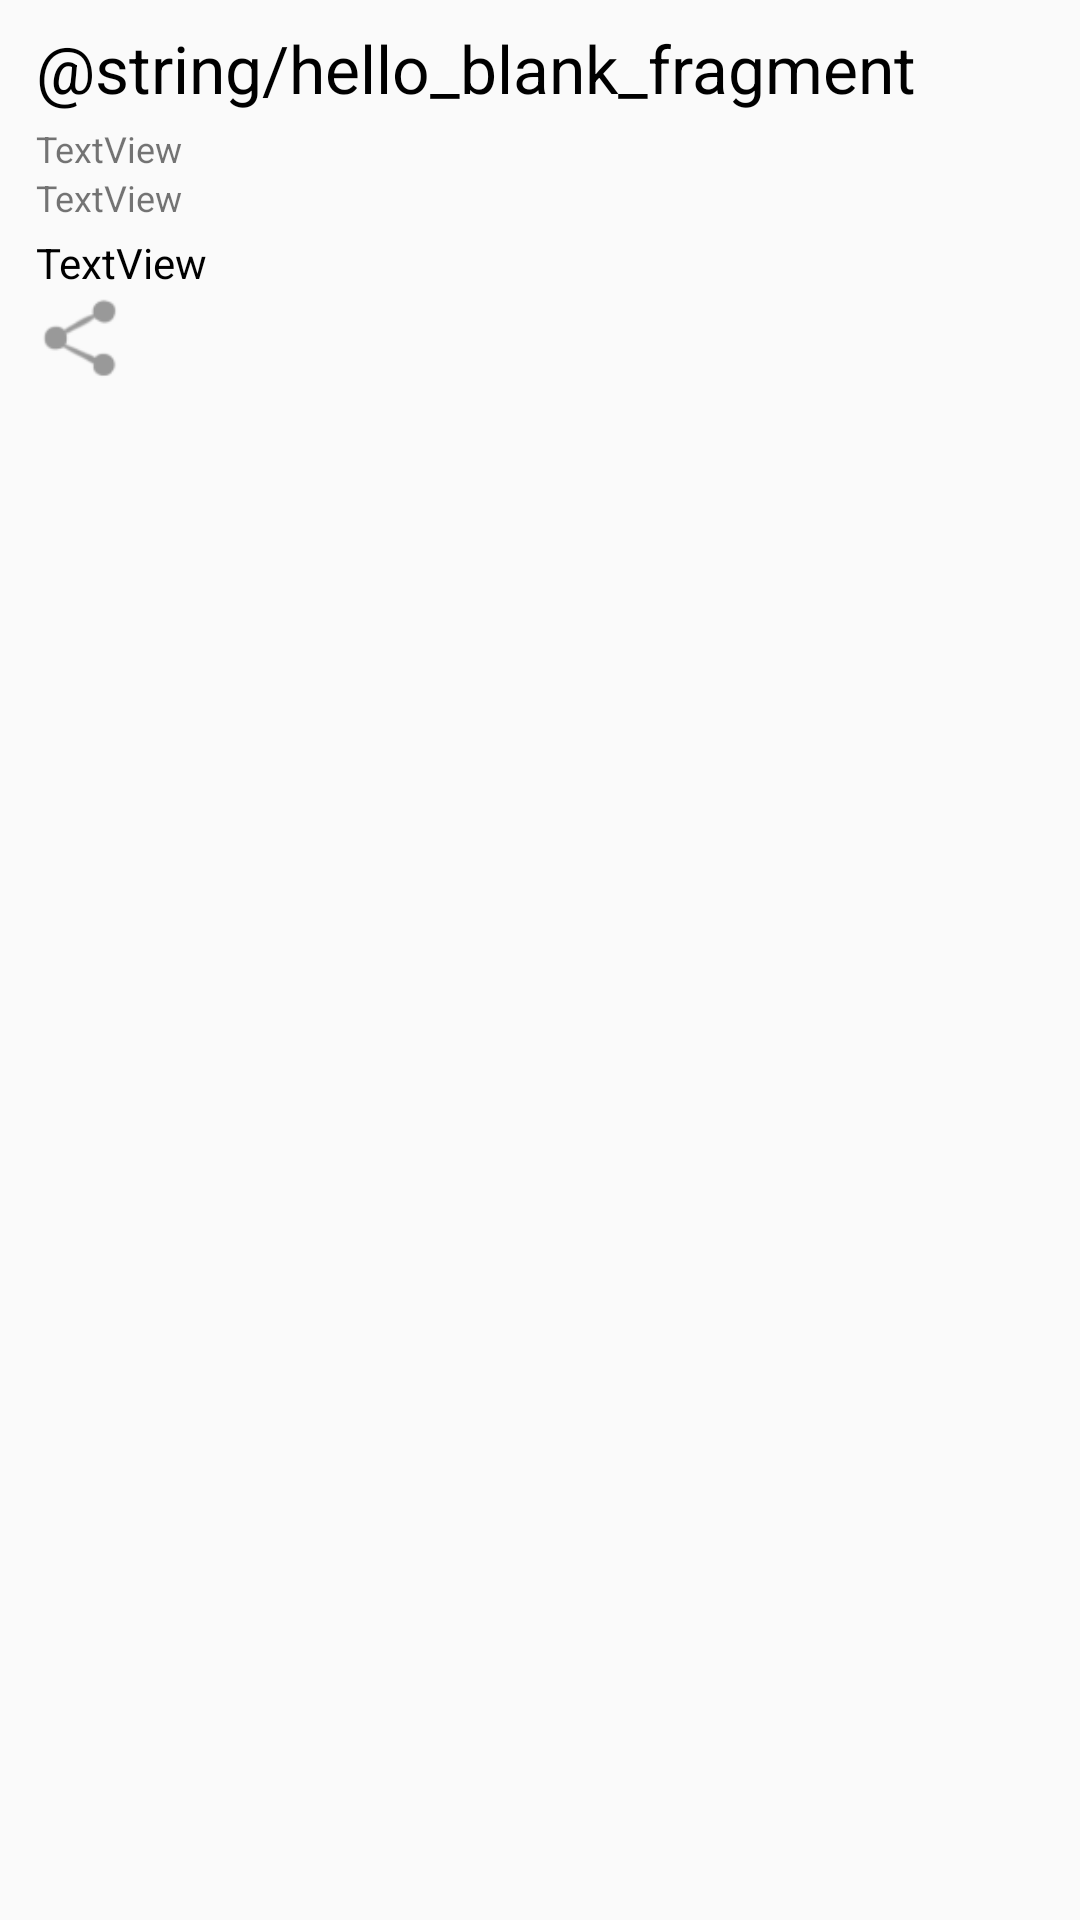

Locate icon controls on the screen. Image size 1080 × 1920, boxes as (x1, y1, x2, y2).
share: (44, 300, 116, 376)
